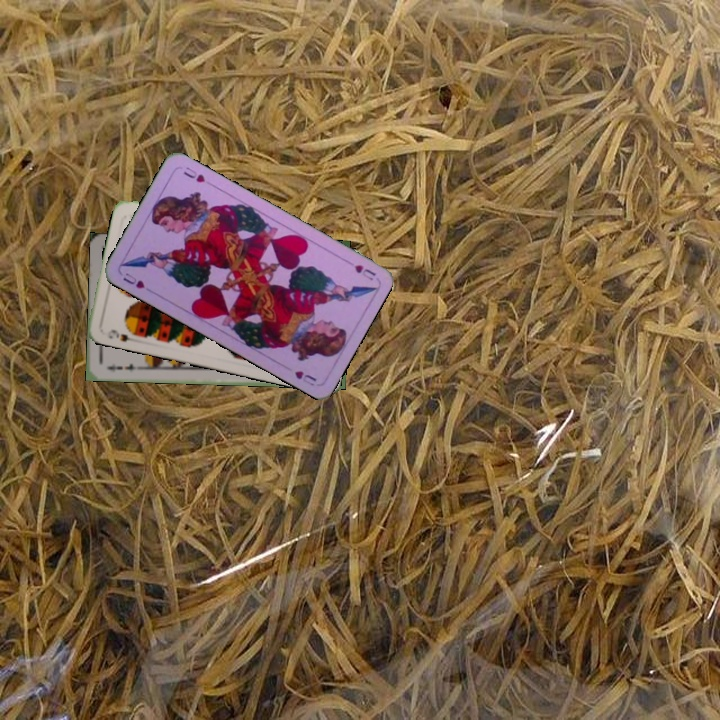E7: (103, 359, 141, 373)
HU: (341, 255, 379, 283), (119, 269, 148, 291)
S9: (104, 325, 141, 345)
